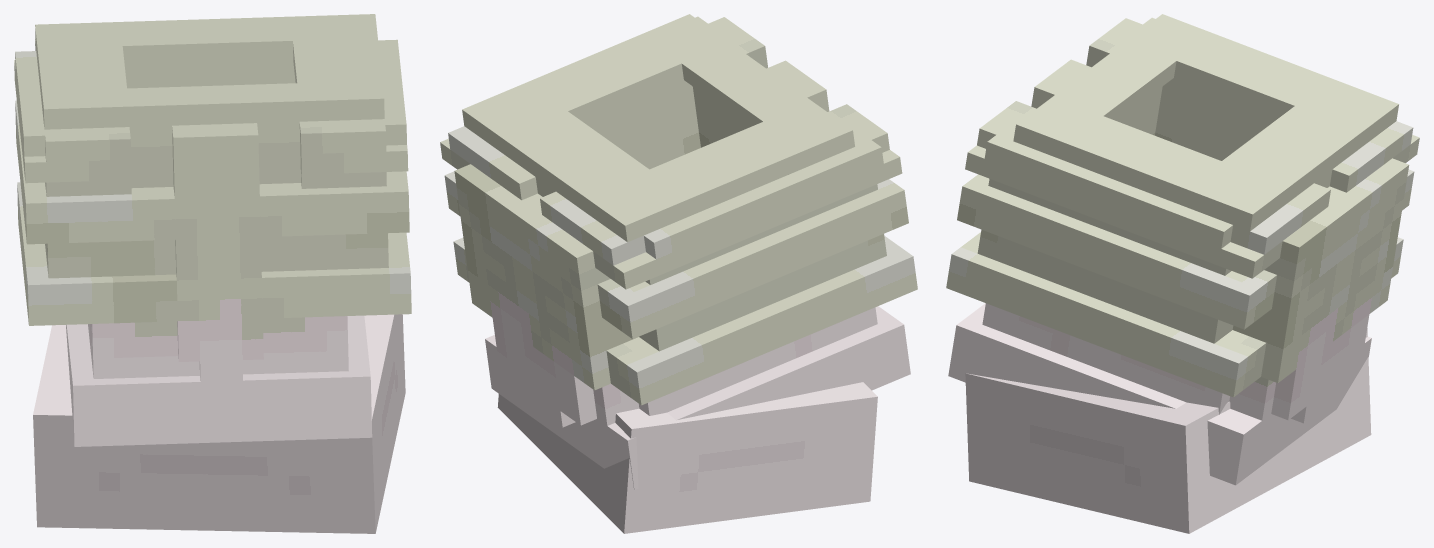
3 renders of one model, left to right at view 1: azimuth 30°, elevation 25°; view 2: azimuth 150°, elevation 25°; view 3: azimuth 270°, elevation 25°, orthographic. The views are drawn at different scales.
Parts seen in each view (by area): view 1: Equip_Chest-Local, Equip_Belly-Local; view 2: Equip_Chest-Local, Equip_Belly-Local; view 3: Equip_Chest-Local, Equip_Belly-Local.
Part boxes in pixels (x1,y1,x2,y2): Equip_Chest-Local: (14,14,411,446); Equip_Belly-Local: (33,314,405,533); Equip_Chest-Local: (440,14,917,489); Equip_Belly-Local: (497,382,877,533); Equip_Chest-Local: (946,14,1419,485); Equip_Belly-Local: (965,328,1371,533).
Bounding box in the file's own units: 24.26 × 21.58 × 24.4.
Materials: 2 (2 with a texture image).
